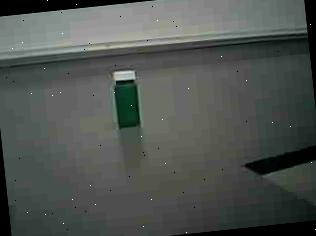Bottle C: (98, 60, 154, 141)
